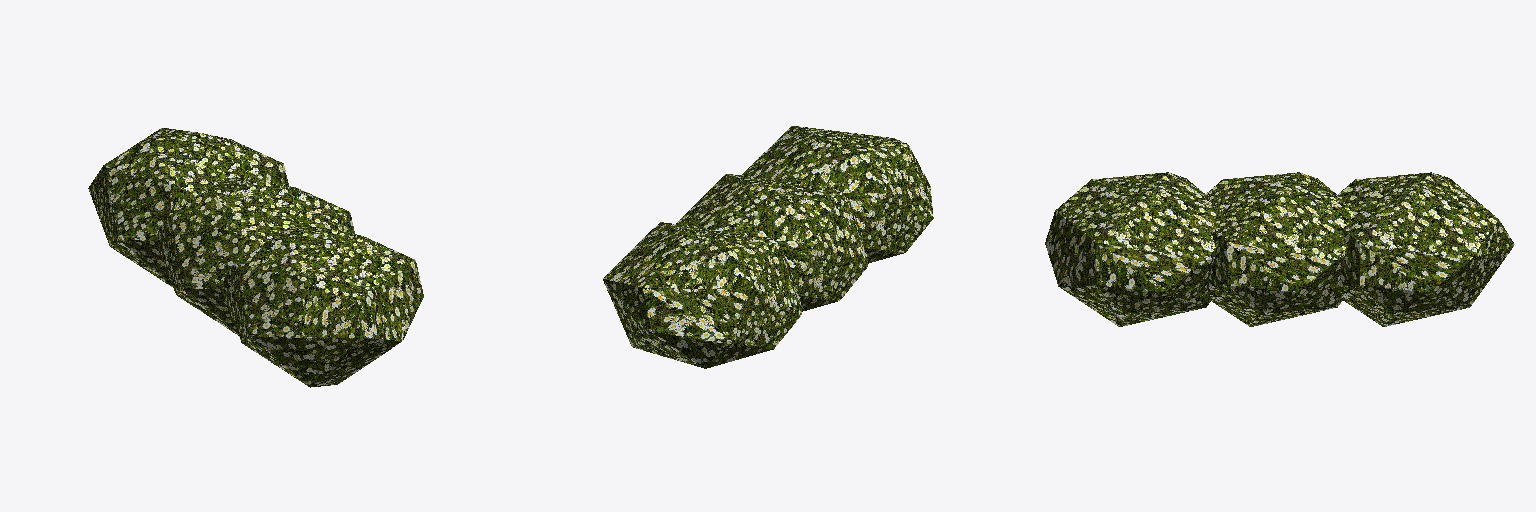
The picture shows the model from 3 angles: view 1: azimuth 30°, elevation 25°; view 2: azimuth 150°, elevation 25°; view 3: azimuth 270°, elevation 25°; orthographic projection.
Parts seen in each view (by area): view 1: Bush03.003_Icosphere.002; view 2: Bush03.003_Icosphere.002; view 3: Bush03.003_Icosphere.002.
Boxes of the visible parts, <box> form: Bush03.003_Icosphere.002: <box>88,128,423,387</box>; Bush03.003_Icosphere.002: <box>603,126,933,368</box>; Bush03.003_Icosphere.002: <box>1045,172,1514,326</box>.
Bounding box in the file's own units: 1.11 × 0.876 × 2.65.
1 materials, 1 textured.